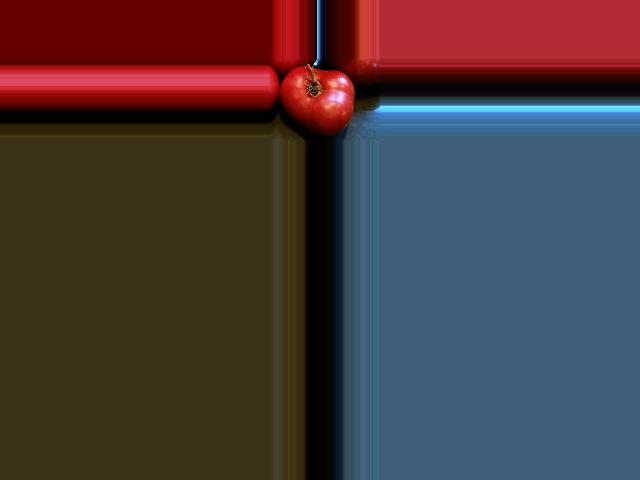tomato: (279, 66, 354, 135)
